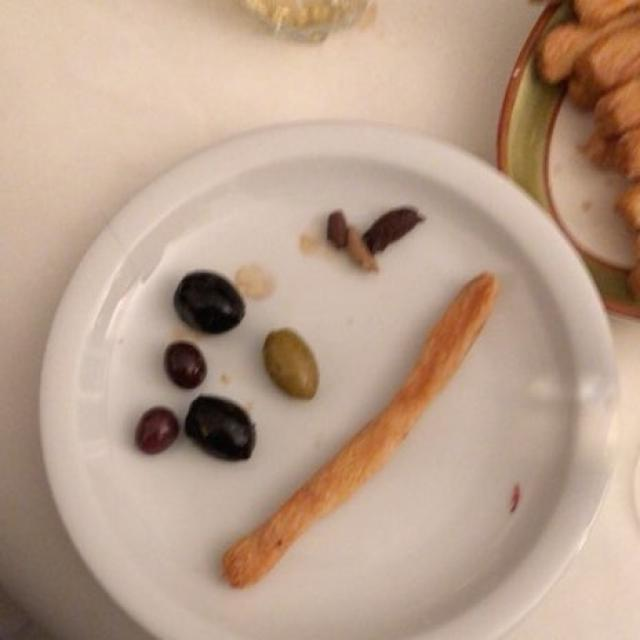black-olives: (135, 275, 326, 458)
